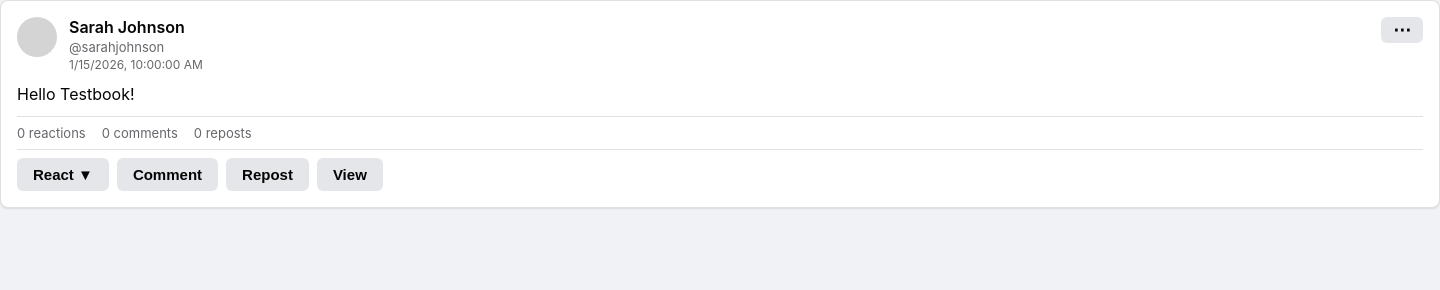
Test: Post Component › Comments › reveals a comment form when the Comment button is clicked
Expected: the field with placeholder "Write a comment..." is not shown
Click the button "Comment". click: x=168, y=174
box: x1=117 y1=158 x2=218 y2=191
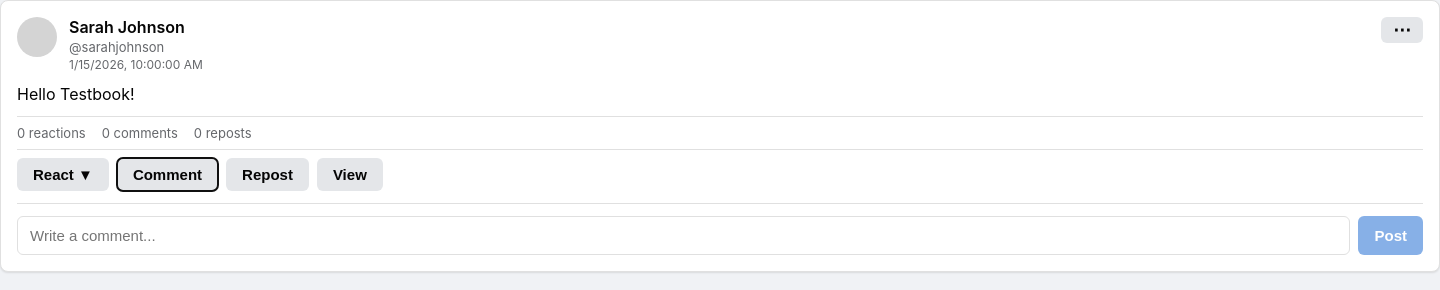
Now the field with placeholder "Write a comment..." is shown, box x1=17 y1=216 x2=1350 y2=255
